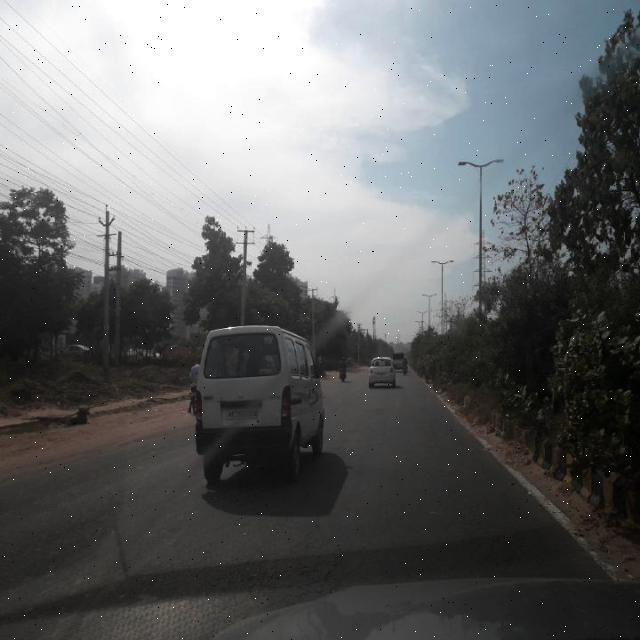D20: (49, 461, 549, 618)
